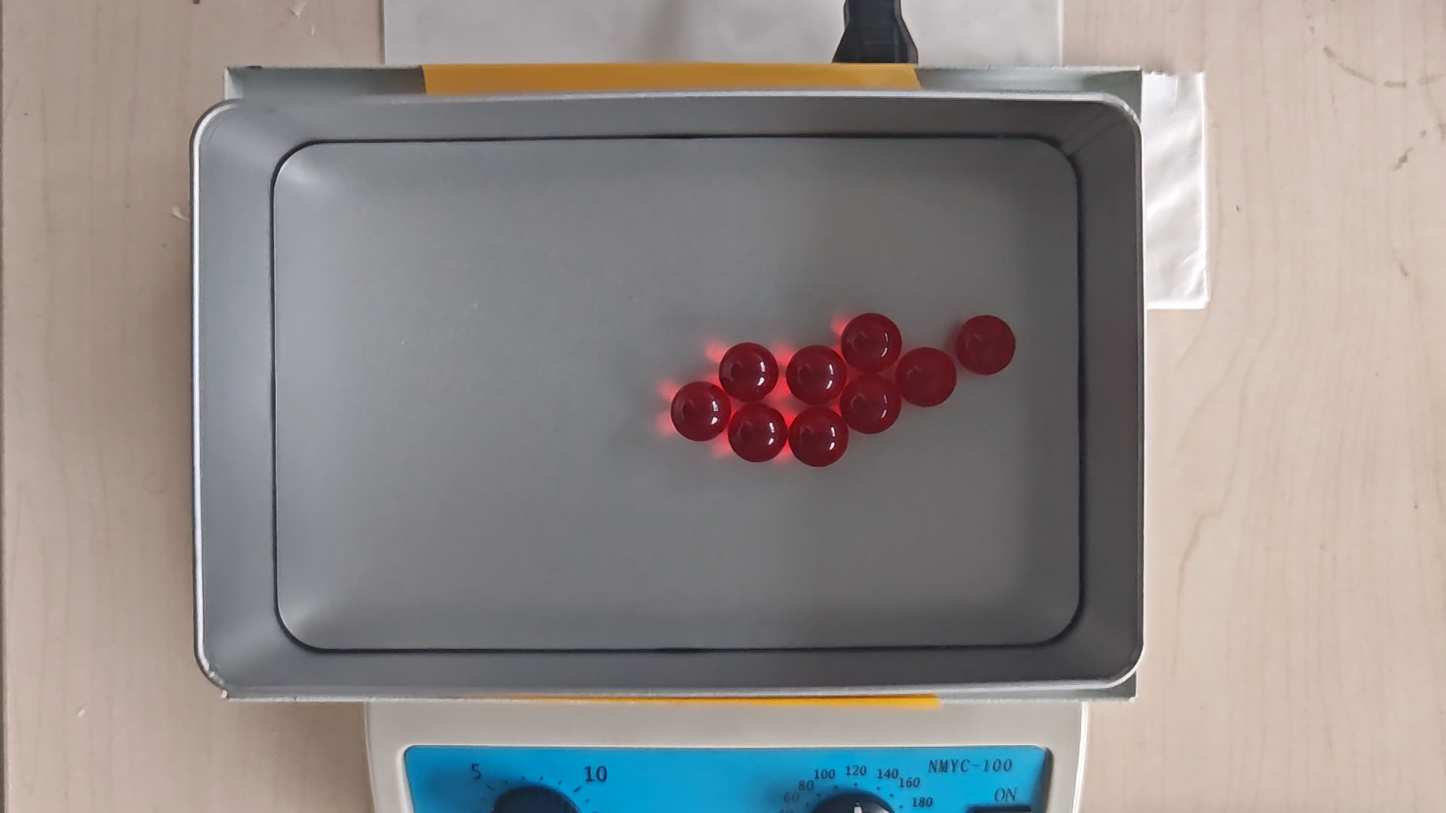ball: (955, 314, 1016, 376), (787, 344, 847, 405), (670, 380, 729, 442), (790, 406, 849, 468), (898, 347, 957, 409), (841, 312, 901, 372), (719, 342, 779, 401), (729, 403, 787, 464), (843, 375, 901, 435)
container: (274, 136, 1081, 650)
